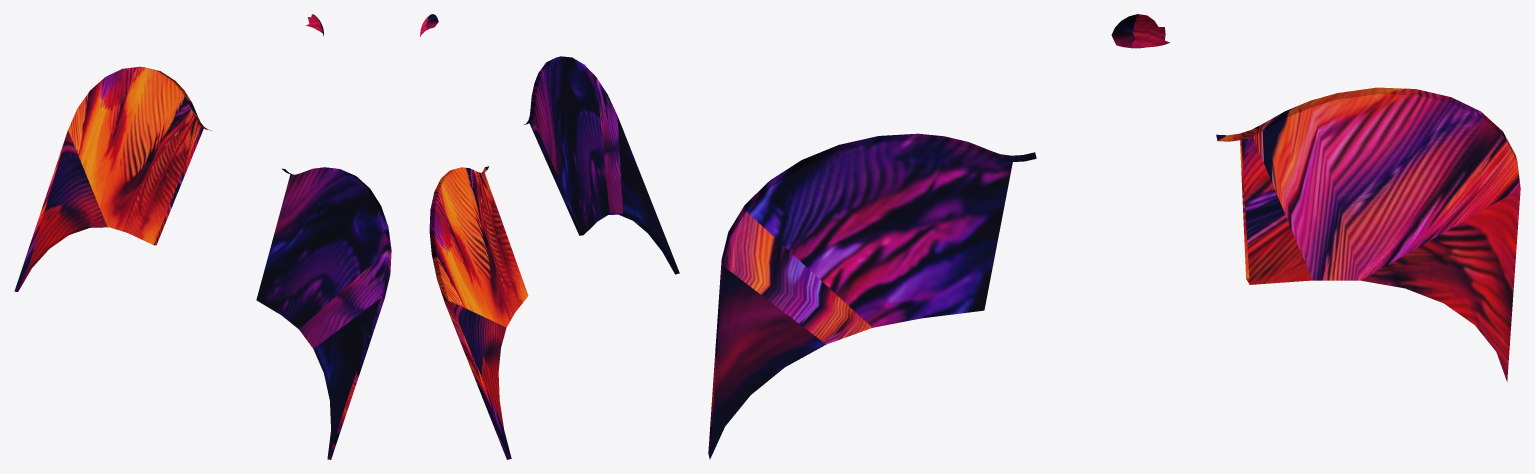
The model's file is alasGua.obj.
The picture shows the model from 3 angles, left to right: view 1: azimuth 30°, elevation 25°; view 2: azimuth 150°, elevation 25°; view 3: azimuth 270°, elevation 25°; orthographic projection. The views are drawn at different scales.
Parts seen in each view (by area): view 1: alasGua; view 2: alasGua; view 3: alasGua.
Boxes of the visible parts, bbox=[...] form: alasGua: bbox=[14, 14, 391, 459]; alasGua: bbox=[420, 14, 679, 459]; alasGua: bbox=[708, 14, 1520, 459].
Size of the model in its own units: 0.2422 by 0.381 by 0.5217.
Materials: 1 (1 with a texture image).
